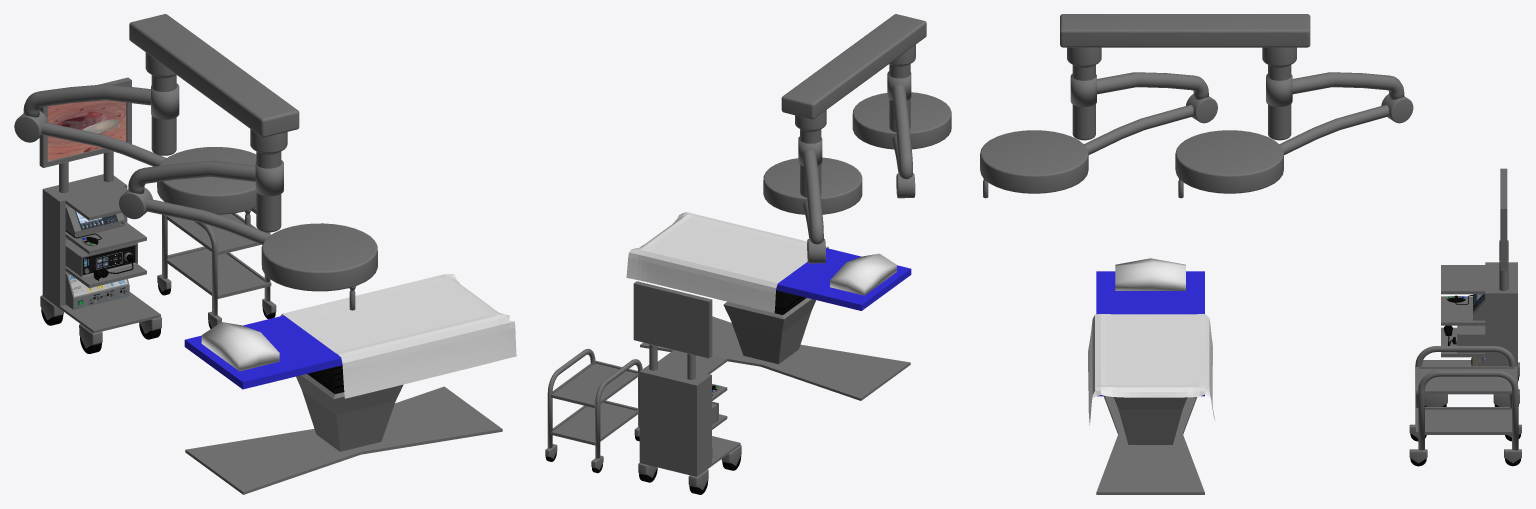
File: realistic_medical_equipment_and_accessories_set.glb
3 renders of one model, left to right at view 1: azimuth 30°, elevation 25°; view 2: azimuth 150°, elevation 25°; view 3: azimuth 270°, elevation 25°, orthographic. The views are drawn at different scales.
Visible parts, largest first — view 1: Obj_OP_Bett, Obj_Oplicht, Obj_Computer, Obj_Schiebewagen; view 2: Obj_OP_Bett, Obj_Oplicht, Obj_Computer, Obj_Schiebewagen; view 3: Obj_Oplicht, Obj_OP_Bett, Obj_Computer, Obj_Schiebewagen.
Part boxes in pixels (x1=…): Obj_OP_Bett: x1=184, y1=274, x2=516, y2=494; Obj_Oplicht: x1=14, y1=14, x2=377, y2=310; Obj_Computer: x1=39, y1=77, x2=161, y2=353; Obj_Schiebewagen: x1=157, y1=207, x2=276, y2=328; Obj_OP_Bett: x1=626, y1=212, x2=911, y2=400; Obj_Oplicht: x1=763, y1=14, x2=951, y2=263; Obj_Computer: x1=633, y1=281, x2=741, y2=494; Obj_Schiebewagen: x1=545, y1=348, x2=642, y2=473; Obj_Oplicht: x1=980, y1=14, x2=1413, y2=198; Obj_OP_Bett: x1=1088, y1=258, x2=1215, y2=494; Obj_Computer: x1=1422, y1=168, x2=1519, y2=406; Obj_Schiebewagen: x1=1409, y1=346, x2=1521, y2=466.
Size of the model in its own units: 6.64 by 7.39 by 9.98.
11 materials, 4 textured.
